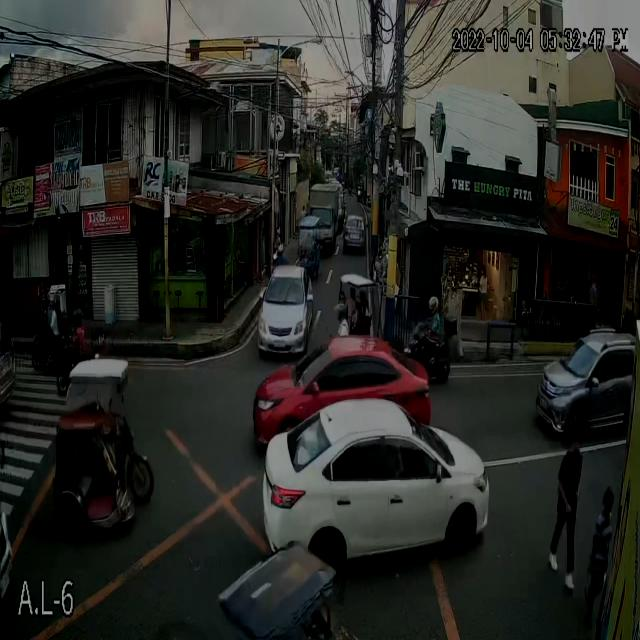Full-Faced: (428, 290, 442, 315), (71, 306, 85, 326), (46, 290, 58, 311)
Half-Faced: (332, 301, 349, 324)
